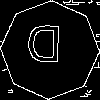D: (25, 25, 63, 72)
